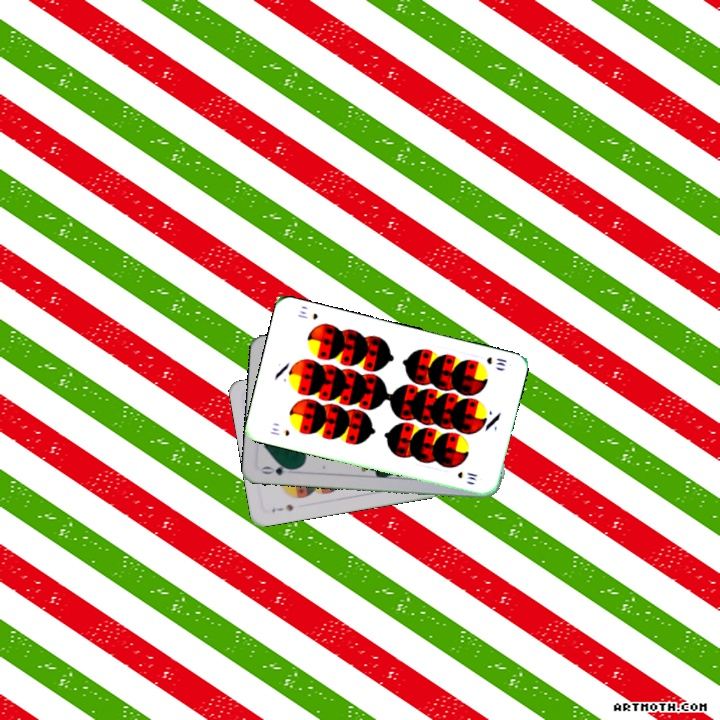GO: (257, 460, 297, 478)
S10: (482, 353, 509, 369), (266, 424, 292, 439)
S7: (268, 500, 296, 515)
